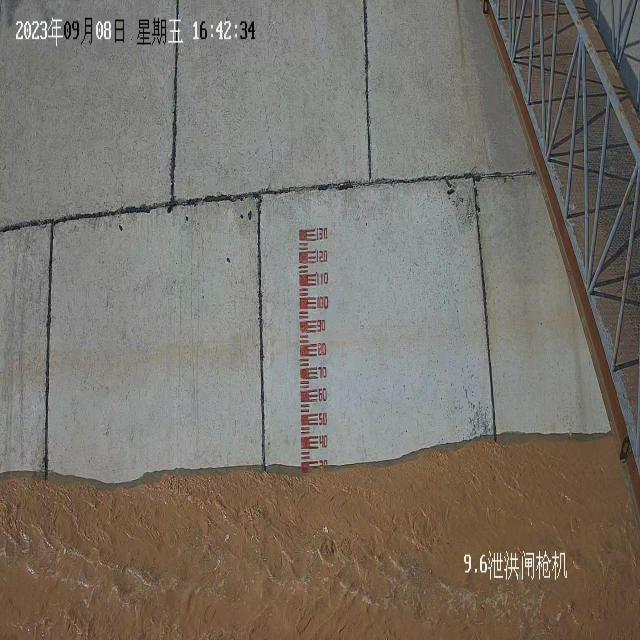ruler: (294, 219, 332, 459)
value: (315, 247, 329, 266), (316, 384, 329, 404), (315, 269, 329, 287), (318, 432, 330, 452), (316, 294, 329, 312), (316, 362, 329, 380), (316, 340, 328, 359), (316, 224, 328, 242), (316, 316, 327, 334), (318, 410, 329, 428)
